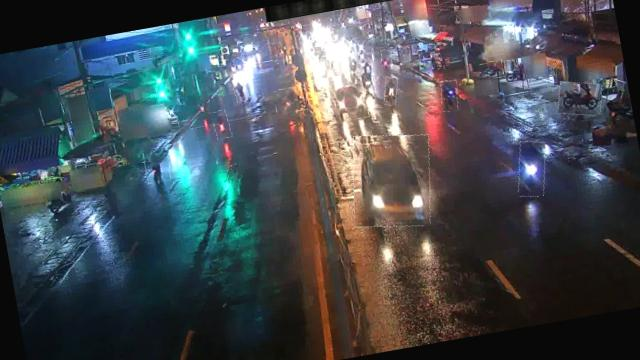Bike: (512, 138, 550, 198), (554, 76, 605, 119), (142, 146, 172, 184), (272, 85, 308, 115), (438, 79, 461, 112), (212, 109, 232, 139), (381, 76, 400, 106), (477, 60, 504, 81), (232, 77, 250, 102), (360, 68, 374, 92), (381, 49, 394, 70), (364, 59, 374, 76)
Car: (344, 126, 441, 234), (328, 82, 369, 124)
